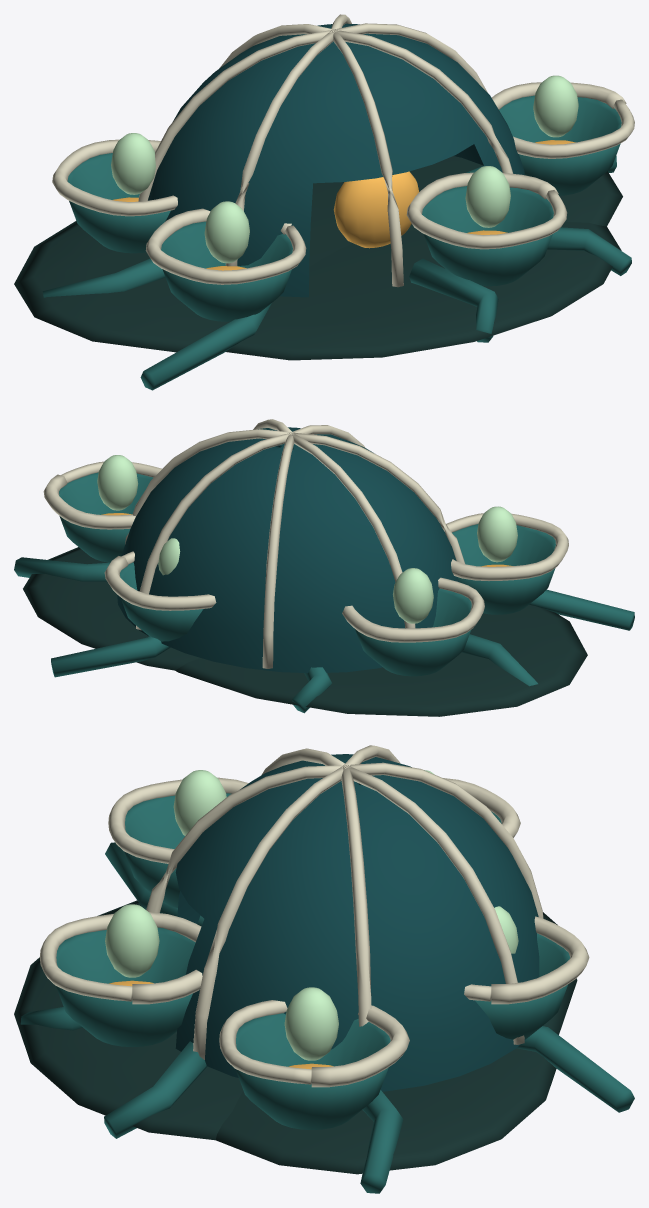
Rendered from building_first_nursery_a.obj.
The picture shows the model from 3 angles, top to bottom: view 1: azimuth 30°, elevation 25°; view 2: azimuth 150°, elevation 25°; view 3: azimuth 270°, elevation 25°; orthographic projection. The views are drawn at different scales.
Parts seen in each view (by area): view 1: inhabited_shell.009, irregular_anchoring_lobe.014, irregular_anchoring_lobe.012, open_living_cup.007, open_living_cup.006, open_living_cup.003, open_living_cup.005, grown_cup_lip.007, warm_occupied_cavity.009, irregular_anchoring_lobe.013, grown_cup_lip.006, grown_cup_lip.003 (+15 smaller); view 2: inhabited_shell.009, irregular_anchoring_lobe.012, irregular_anchoring_lobe.013, open_living_cup.006, open_living_cup.005, open_living_cup.003, grown_cup_lip.006, grown_cup_lip.005, growth_seam.065, anchoring_root.029, grown_cup_lip.003, growth_seam.064 (+14 smaller); view 3: inhabited_shell.009, irregular_anchoring_lobe.013, irregular_anchoring_lobe.014, open_living_cup.003, open_living_cup.007, grown_cup_lip.003, grown_cup_lip.007, growth_seam.069, growth_seam.064, open_living_cup.006, growth_seam.063, grown_cup_lip.004 (+15 smaller).
Part boxes in pixels (<box>): inhabited_shell.009: <box>148,23,524,297</box>; irregular_anchoring_lobe.014: <box>226,222,621,360</box>; irregular_anchoring_lobe.012: <box>14,205,351,352</box>; open_living_cup.007: <box>422,186,553,286</box>; open_living_cup.006: <box>161,221,292,321</box>; open_living_cup.003: <box>499,95,621,195</box>; open_living_cup.005: <box>67,153,170,253</box>; grown_cup_lip.007: <box>406,172,567,249</box>; warm_occupied_cavity.009: <box>333,171,418,248</box>; irregular_anchoring_lobe.013: <box>312,156,622,230</box>; grown_cup_lip.006: <box>145,208,306,284</box>; grown_cup_lip.003: <box>492,82,634,158</box>; inhabited_shell.009: <box>117,427,459,673</box>; irregular_anchoring_lobe.012: <box>175,605,587,716</box>; irregular_anchoring_lobe.013: <box>23,547,199,670</box>; open_living_cup.006: <box>452,524,555,614</box>; open_living_cup.005: <box>355,588,471,676</box>; open_living_cup.003: <box>59,472,153,562</box>; grown_cup_lip.006: <box>446,513,568,580</box>; grown_cup_lip.005: <box>342,577,484,642</box>; growth_seam.065: <box>262,433,294,668</box>; anchoring_root.029: <box>51,636,170,677</box>; grown_cup_lip.003: <box>43,461,162,529</box>; growth_seam.064: <box>136,432,291,630</box>; inhabited_shell.009: <box>175,754,539,1091</box>; irregular_anchoring_lobe.013: <box>216,1048,556,1174</box>; irregular_anchoring_lobe.014: <box>14,900,242,1140</box>; open_living_cup.003: <box>235,1013,390,1129</box>; open_living_cup.007: <box>56,927,195,1047</box>; grown_cup_lip.003: <box>219,1000,409,1087</box>; grown_cup_lip.007: <box>39,912,202,1004</box>; growth_seam.069: <box>193,765,347,1059</box>; growth_seam.064: <box>345,765,524,1044</box>; open_living_cup.006: <box>124,793,231,907</box>; growth_seam.063: <box>341,766,371,1026</box>; grown_cup_lip.004: <box>464,916,589,1004</box>.
Size of the model in its own units: 3.59 by 1.29 by 2.73.
